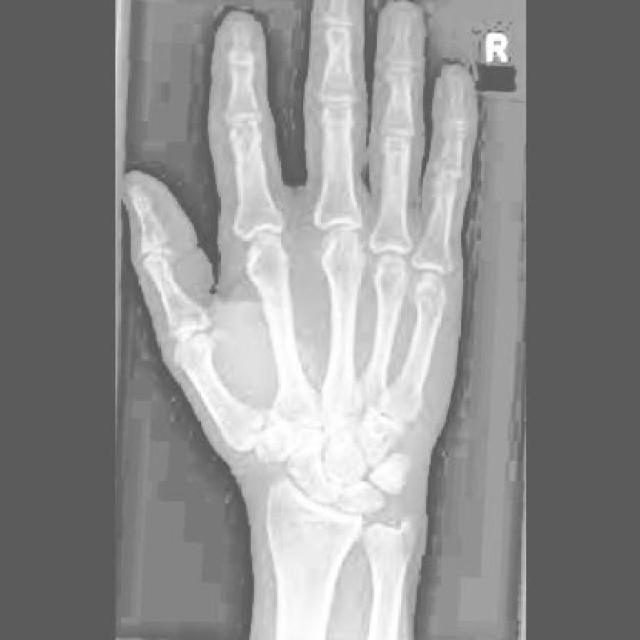Fracture: (237, 400, 282, 460)
